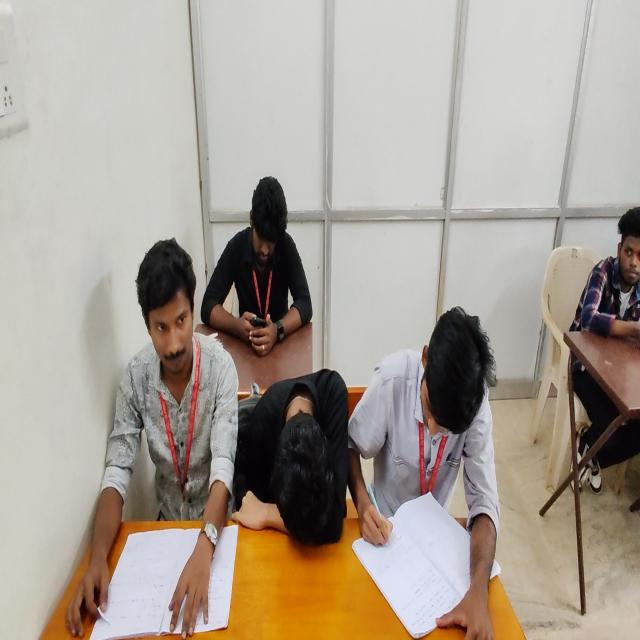reading: (66, 239, 240, 640)
sleeping: (233, 367, 343, 547)
using_mobile: (567, 203, 640, 498), (200, 175, 313, 355)
writing: (355, 308, 492, 640)
